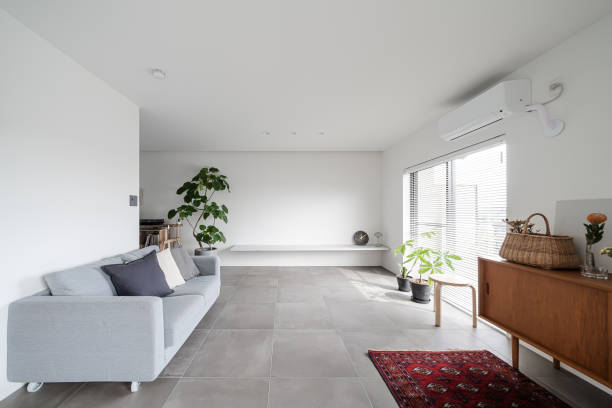large plant: (169, 163, 231, 256), (411, 243, 459, 303), (393, 231, 413, 293)
side table: (428, 271, 479, 330)
sofa: (4, 243, 223, 394)
